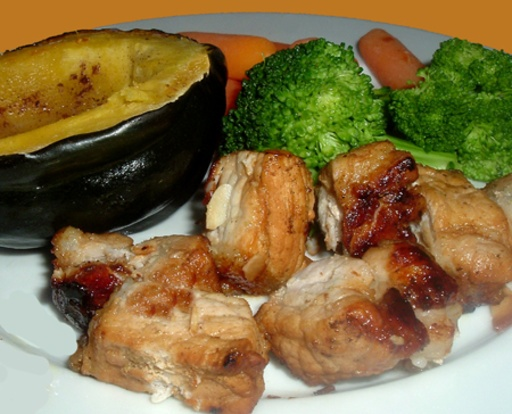background: (0, 17, 410, 267)
